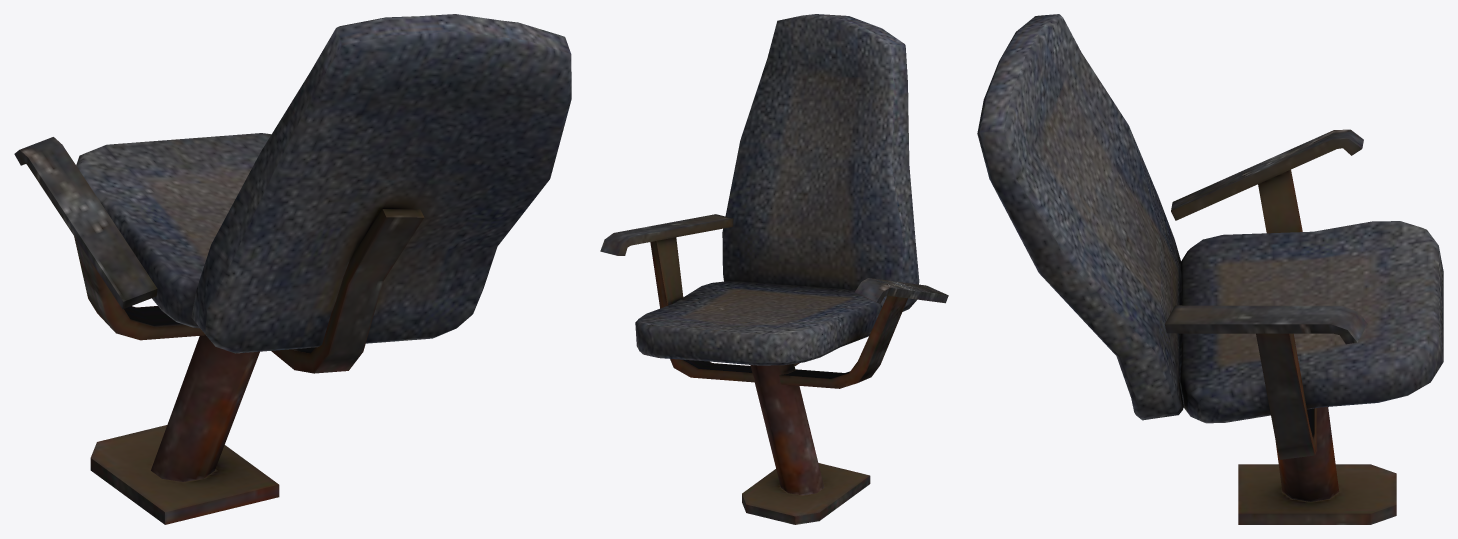
The model's file is AudiChair_Broken.FBX.
The picture shows the model from 3 angles, left to right: view 1: azimuth 30°, elevation 25°; view 2: azimuth 150°, elevation 25°; view 3: azimuth 270°, elevation 25°; orthographic projection. The views are drawn at different scales.
Parts seen in each view (by area): view 1: AudiChair_Broken; view 2: AudiChair_Broken; view 3: AudiChair_Broken.
Boxes of the visible parts, x1=… form: AudiChair_Broken: x1=14, y1=14, x2=571, y2=524; AudiChair_Broken: x1=600, y1=14, x2=948, y2=524; AudiChair_Broken: x1=977, y1=14, x2=1443, y2=524.
Bounding box in the file's own units: 80.12 × 104 × 88.17.
